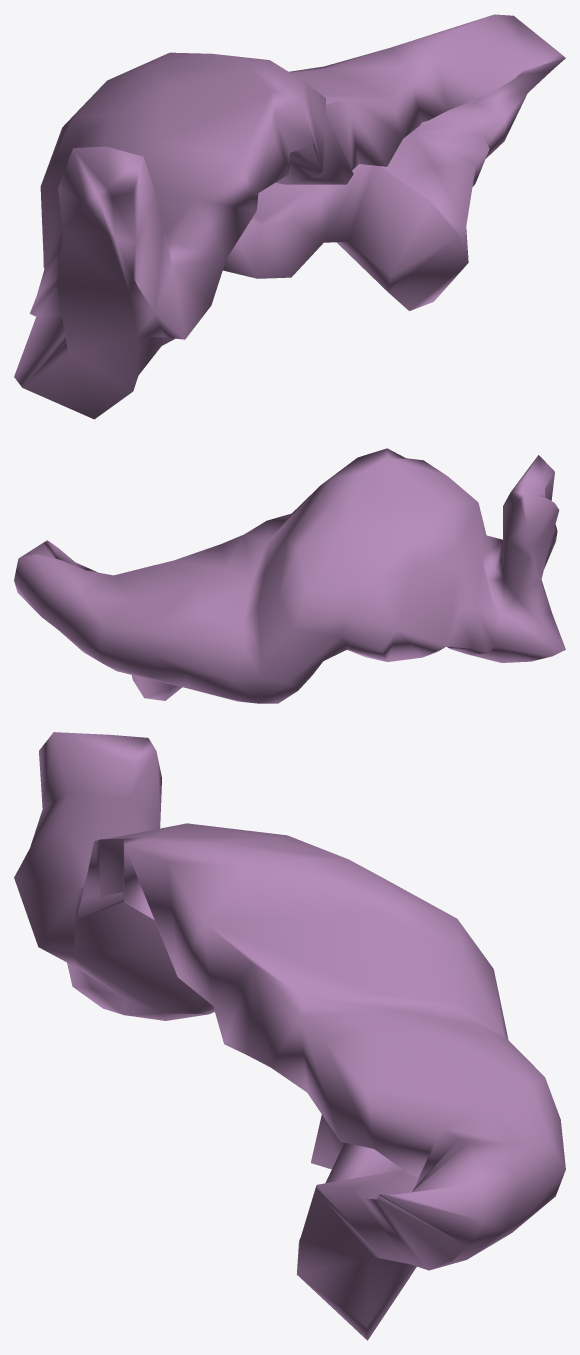
The picture shows the model from 3 angles, top to bottom: view 1: azimuth 30°, elevation 25°; view 2: azimuth 150°, elevation 25°; view 3: azimuth 270°, elevation 25°; orthographic projection. The views are drawn at different scales.
Parts seen in each view (by area): view 1: 左侧中央前沟上部; view 2: 左侧中央前沟上部; view 3: 左侧中央前沟上部.
Part boxes in pixels (left/top/right/bottom): 左侧中央前沟上部: left=14, top=14, right=565, bottom=419; 左侧中央前沟上部: left=14, top=448, right=565, bottom=703; 左侧中央前沟上部: left=14, top=732, right=565, bottom=1340.
Bounding box in the file's own units: 0.0578 × 0.0301 × 0.0395.
